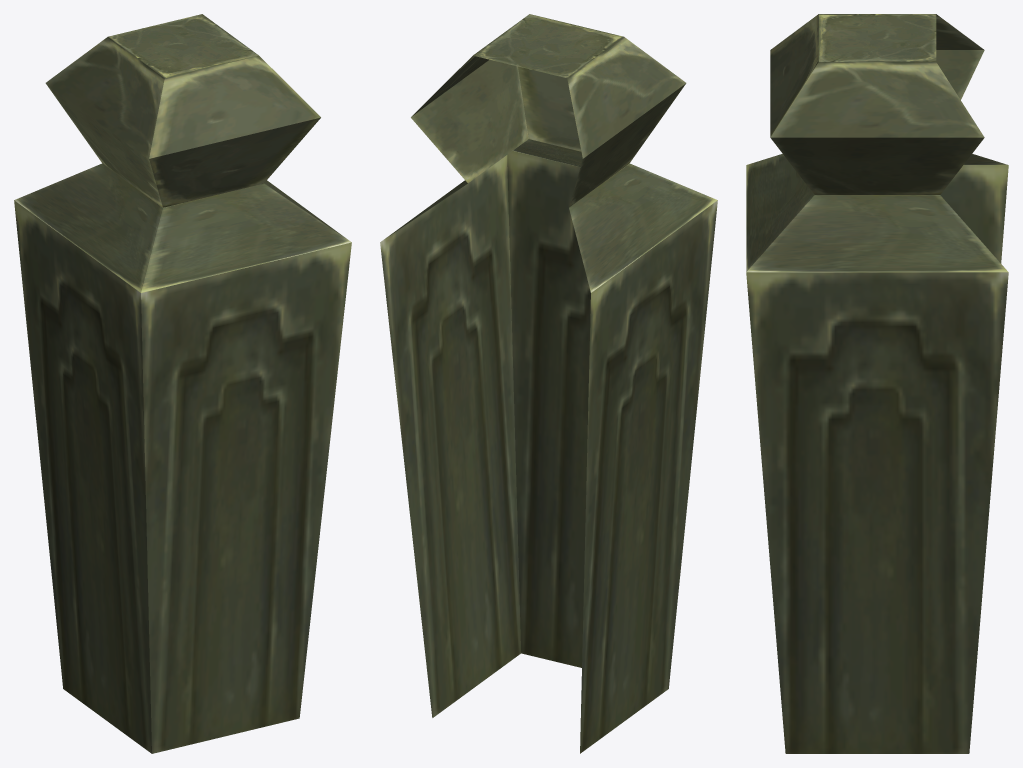
The model's file is zhuzi02.FBX.
3 views of the same model, side by side, from view 1: azimuth 30°, elevation 25°; view 2: azimuth 150°, elevation 25°; view 3: azimuth 270°, elevation 25° (orthographic). The views are drawn at different scales.
Visible parts, largest first — view 1: 001; view 2: 001; view 3: 001.
Part boxes in pixels (bbox=[...]): 001: bbox=[14, 14, 351, 753]; 001: bbox=[380, 14, 717, 753]; 001: bbox=[746, 14, 1008, 753].
Bounding box in the file's own units: 0.7008 × 2.09 × 0.7306.
